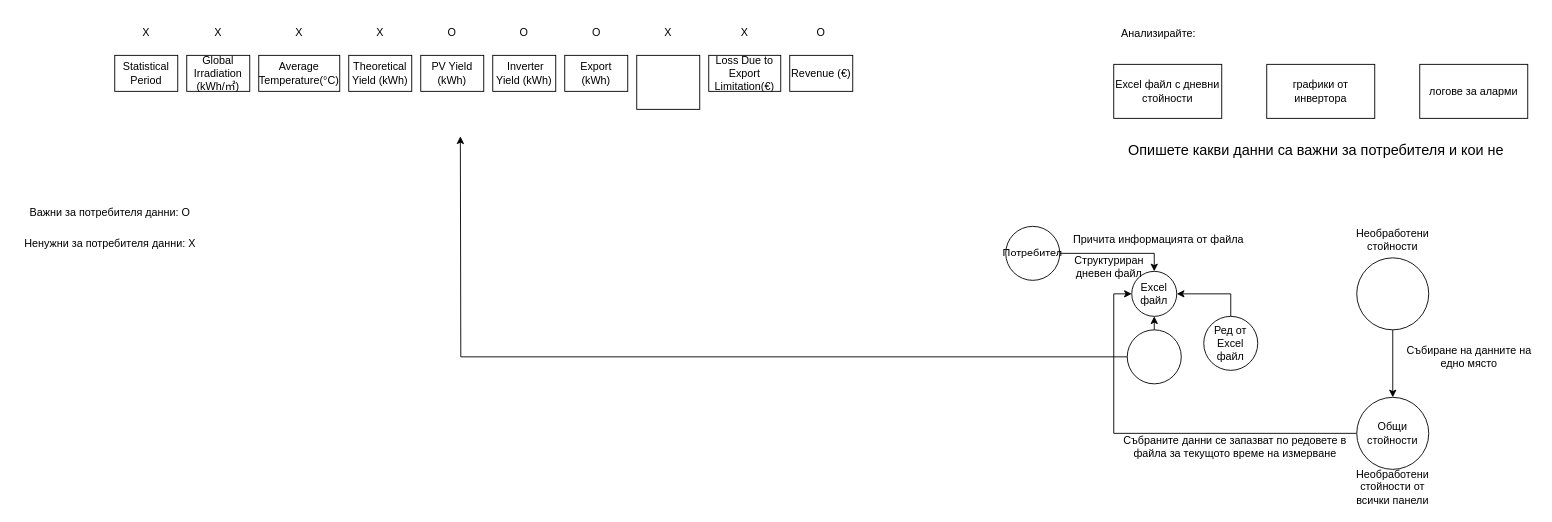
Some shapes in this 1552 by 522 pixel diagram are drawn without their labels. The box of each missing label's shape, as (x1, y1, x2, y2) in pixels:
Loss Due to Export Limitation (kWh): (636, 54, 700, 109)
Име на колона в Excel файл: (1126, 329, 1181, 384)
Текущи данни от панел: (1356, 257, 1429, 330)
